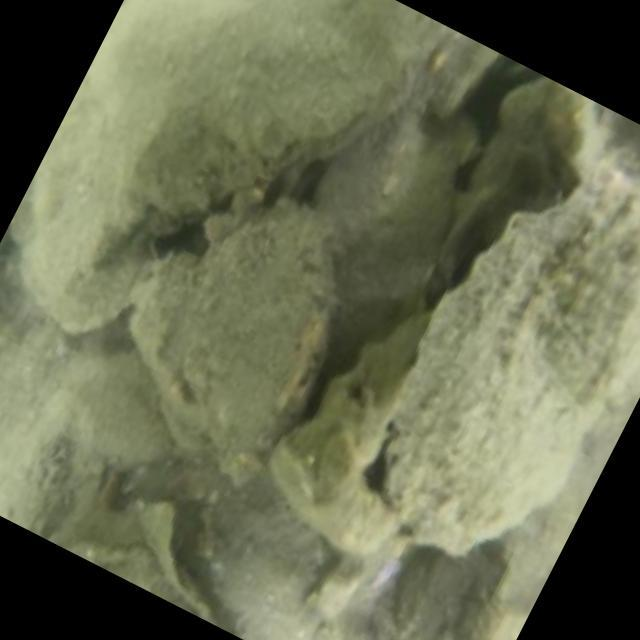Oyster- Indeterminate: (88, 0, 447, 247)
Oyster-Closed: (364, 143, 640, 553), (141, 200, 335, 462), (317, 88, 458, 311)
